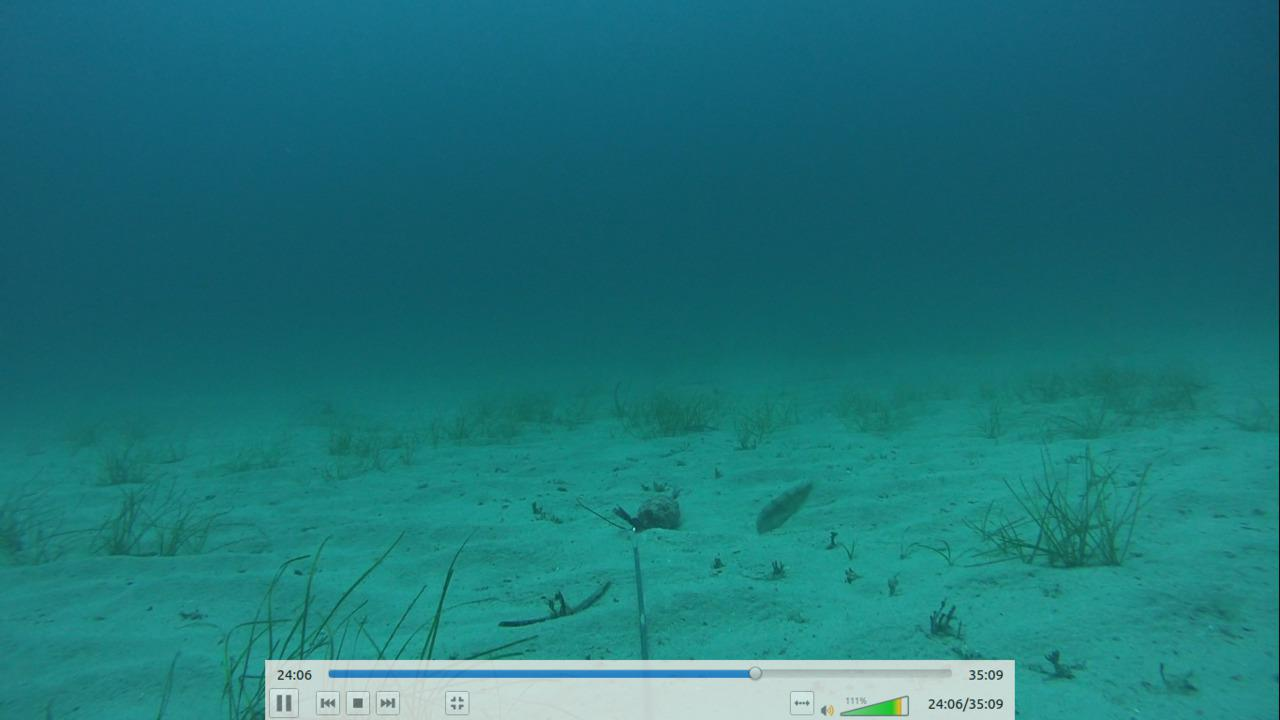raor: (750, 473, 820, 536)
